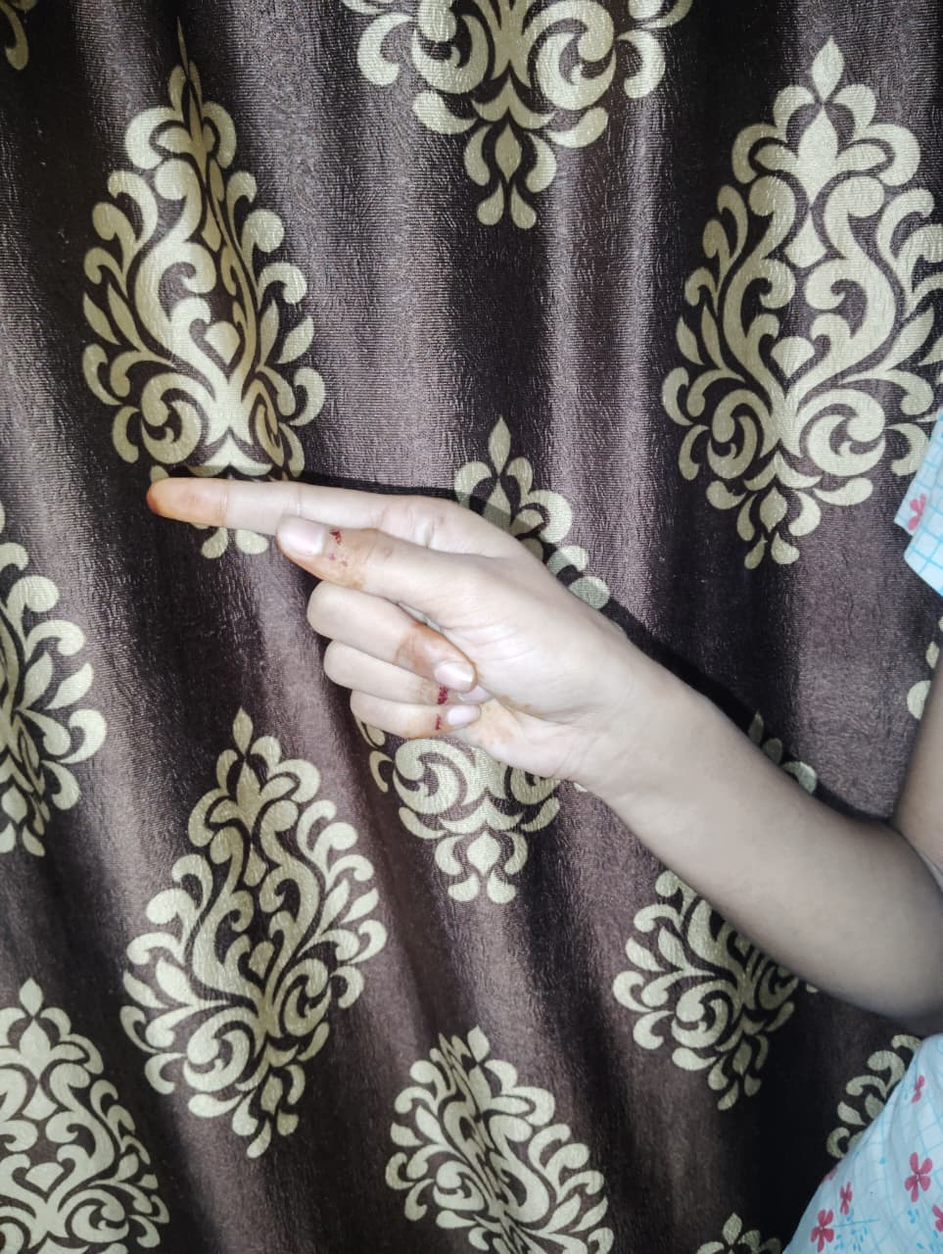G: (147, 472, 637, 822)
